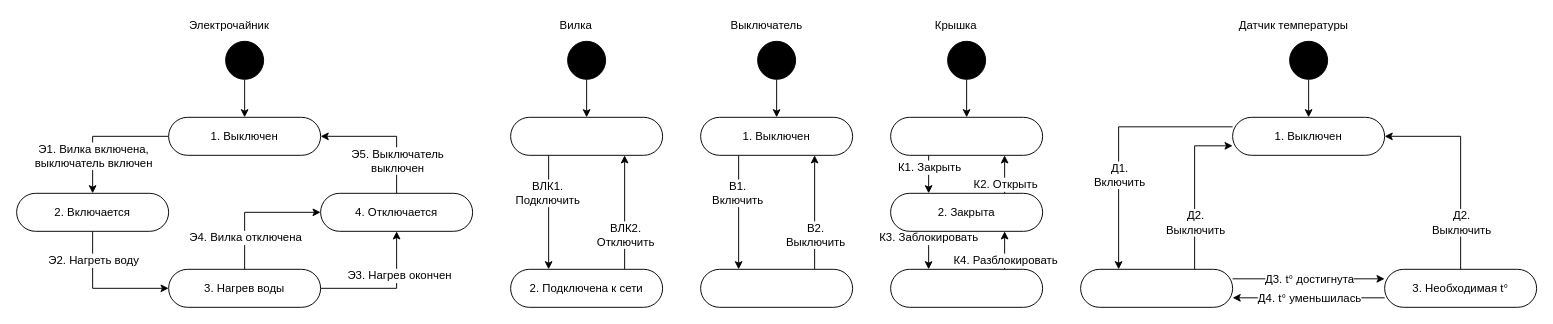
Some shapes in this 1553 by 324 pixel diagram are drawn without their labels. The shapes that lost their labels are listed below. From the top down, each one's centre as x and y in pixels, then its label:
the point at 586,135: 1. Отключена от сети
the point at 966,135: 1. Открыта
the point at 776,287: 2. Включен
the point at 966,287: 3. Заблокирована
the point at 1156,287: 2. t ° ниже необходимой
